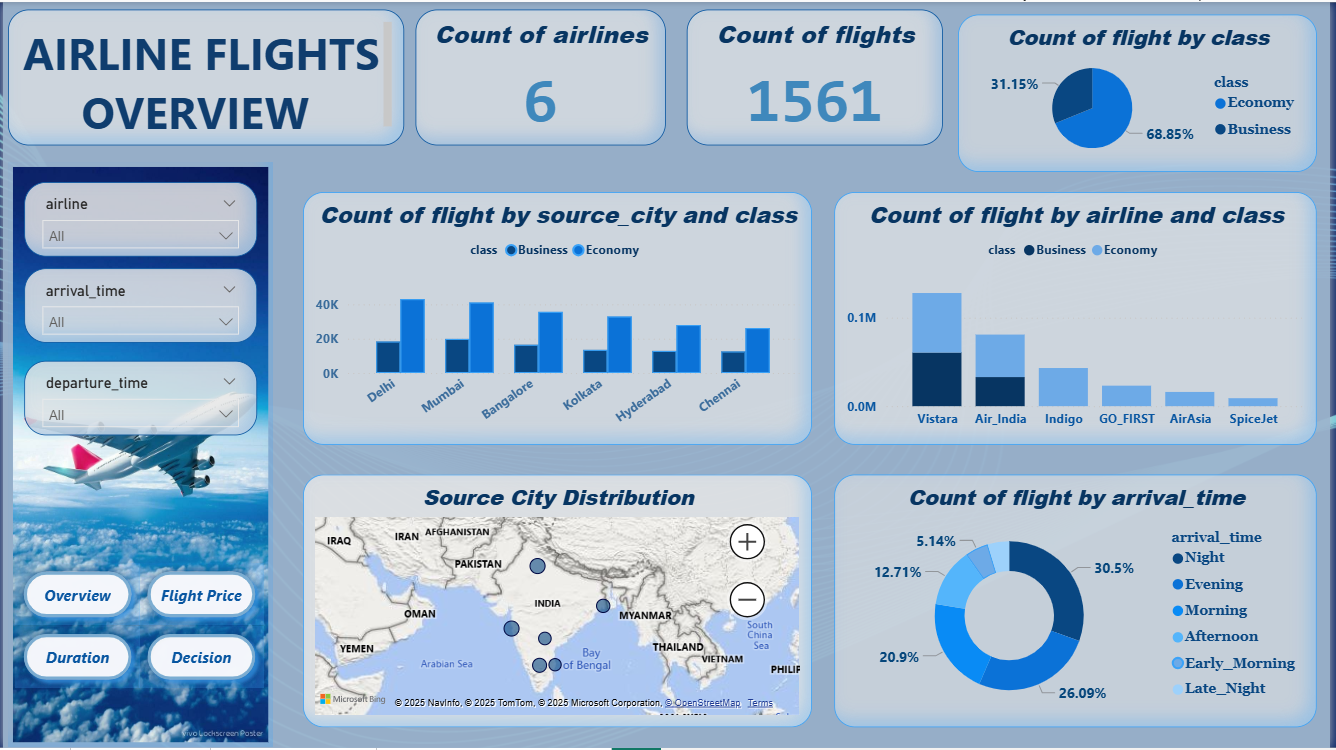

Layout of this report page (visuals, bound fields, positions):
{"tool":"powerbi","page":{"name":"Overview","canvas":[1280,720],"ordinal":0},"visuals":[{"type":"image","box":[4.5,154.4,255.9,564.8],"z":0},{"type":"textbox","box":[4.8,7.2,382.4,131.5],"z":1000},{"type":"card","title":"Count of airlines","fields":{"Values":["Count(airlines_flights_data.airline)"]},"box":[398.1,7.2,241.3,131.5],"z":2000},{"type":"card","title":"Count of flights","fields":{"Values":["Count(airlines_flights_data.flight)"]},"box":[659.9,7.2,247.3,131.5],"z":3000},{"type":"donutChart","fields":{"Category":["airlines_flights_data.arrival_time"],"Y":["CountNonNull(airlines_flights_data.flight)"]},"box":[802.3,456,465.7,243.7],"z":4000},{"type":"pieChart","fields":{"Category":["airlines_flights_data.class"],"Y":["CountNonNull(airlines_flights_data.flight)"]},"box":[921.7,12.1,346.2,152],"z":5000},{"type":"clusteredColumnChart","fields":{"Category":["airlines_flights_data.source_city"],"Y":["CountNonNull(airlines_flights_data.flight)"],"Series":["airlines_flights_data.class"]},"box":[289.5,183.4,491,243.7],"z":6000},{"type":"columnChart","fields":{"Category":["airlines_flights_data.airline"],"Y":["CountNonNull(airlines_flights_data.flight)"],"Series":["airlines_flights_data.class"]},"box":[802.3,183.4,465.7,243.7],"z":7000},{"type":"map","title":"Source City Distribution","fields":{"Category":["airlines_flights_data.source_city"],"Size":["Measures (2).Total Flights"]},"box":[289.5,456,491,243.7],"z":8000},{"type":"actionButton","box":[11.7,541.7,120,60],"z":9000},{"type":"actionButton","box":[131.7,541.7,120,60],"z":10000},{"type":"slicer","fields":{"Values":["airlines_flights_data.airline"]},"box":[20,173.3,225,71.7],"z":11000},{"type":"slicer","fields":{"Values":["airlines_flights_data.arrival_time"]},"box":[20,256.7,225,71.7],"z":12000},{"type":"slicer","fields":{"Values":["airlines_flights_data.departure_time"]},"box":[20,346.7,225,71.7],"z":13000},{"type":"actionButton","box":[11.7,601.7,120,60],"z":14000},{"type":"actionButton","box":[131.7,601.7,120,60],"z":15000}]}

Visuals, with their boxes in screenshot pixels (x1, y1, x2, y2), scaled from the page's 1280x720 canvas onto the 1336x750 screenshot:
image: (5, 161, 272, 749)
textbox: (5, 8, 404, 144)
"Count of airlines" card: (416, 8, 667, 144)
"Count of flights" card: (689, 8, 947, 144)
donutChart - airlines_flights_data.arrival_time x CountNonNull(airlines_flights_data.flight): (837, 475, 1323, 729)
pieChart - airlines_flights_data.class x CountNonNull(airlines_flights_data.flight): (962, 13, 1323, 171)
clusteredColumnChart - airlines_flights_data.source_city x CountNonNull(airlines_flights_data.flight): (302, 191, 815, 445)
columnChart - airlines_flights_data.airline x CountNonNull(airlines_flights_data.flight): (837, 191, 1323, 445)
"Source City Distribution" map: (302, 475, 815, 729)
actionButton: (12, 564, 137, 627)
actionButton: (137, 564, 263, 627)
slicer - airlines_flights_data.airline: (21, 181, 256, 255)
slicer - airlines_flights_data.arrival_time: (21, 267, 256, 342)
slicer - airlines_flights_data.departure_time: (21, 361, 256, 436)
actionButton: (12, 627, 137, 689)
actionButton: (137, 627, 263, 689)
